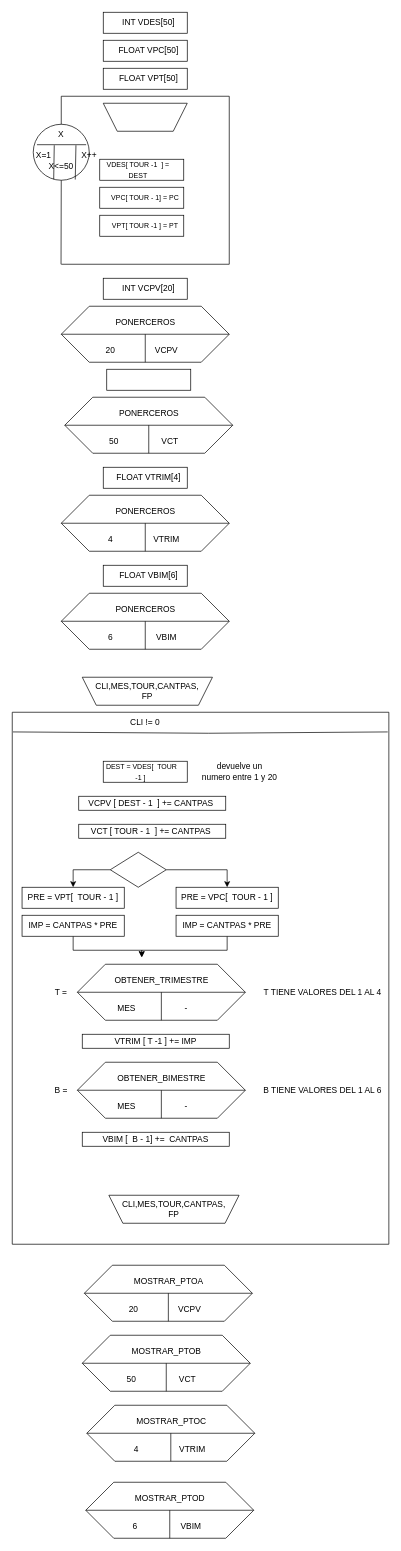
Image size: 401x1551. Some labels were removed from this diagram. Each missing label, with the centre of its shape:
FP == 1: the point at 138,869
INT VCT[50]: the point at 148,379
TOUR, DES, PC, PT: the point at 145,117
